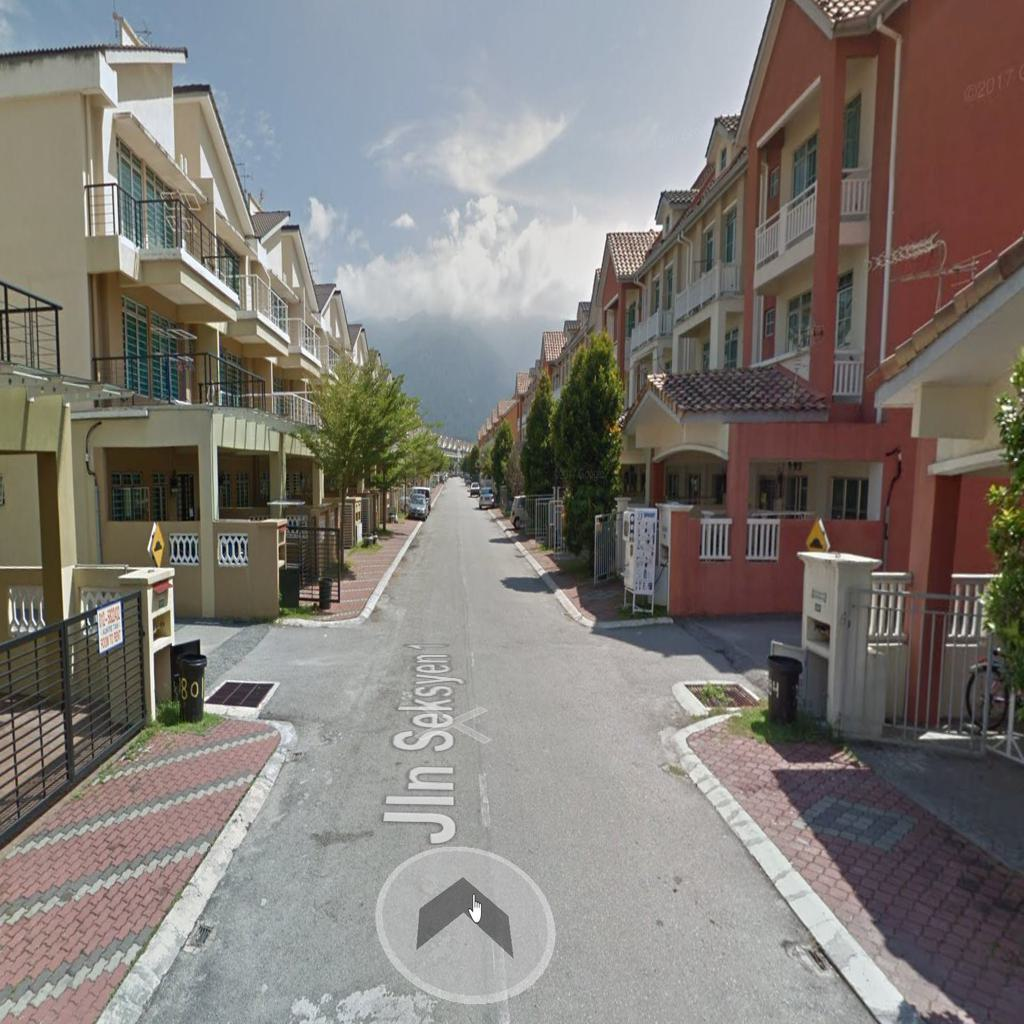Junction: (181, 590, 391, 771), (567, 595, 794, 762)
